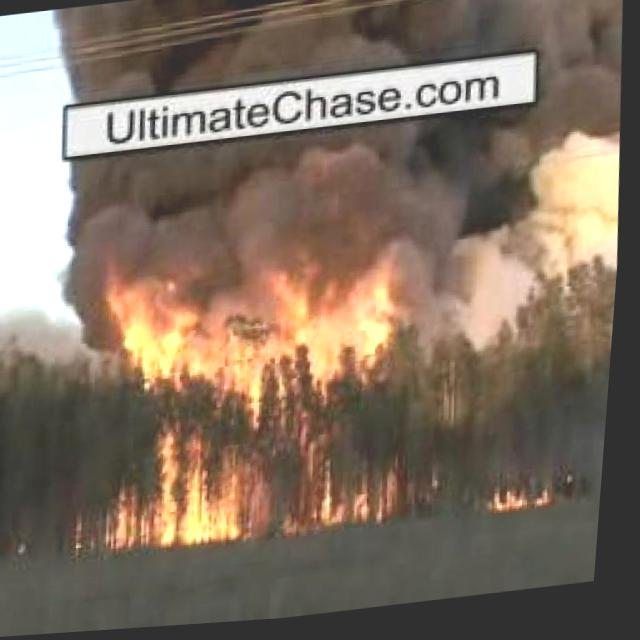helmet: (95, 230, 429, 558), (502, 495, 561, 516), (0, 547, 3, 576)
no_helmet: (59, 102, 631, 307), (43, 0, 628, 108)
